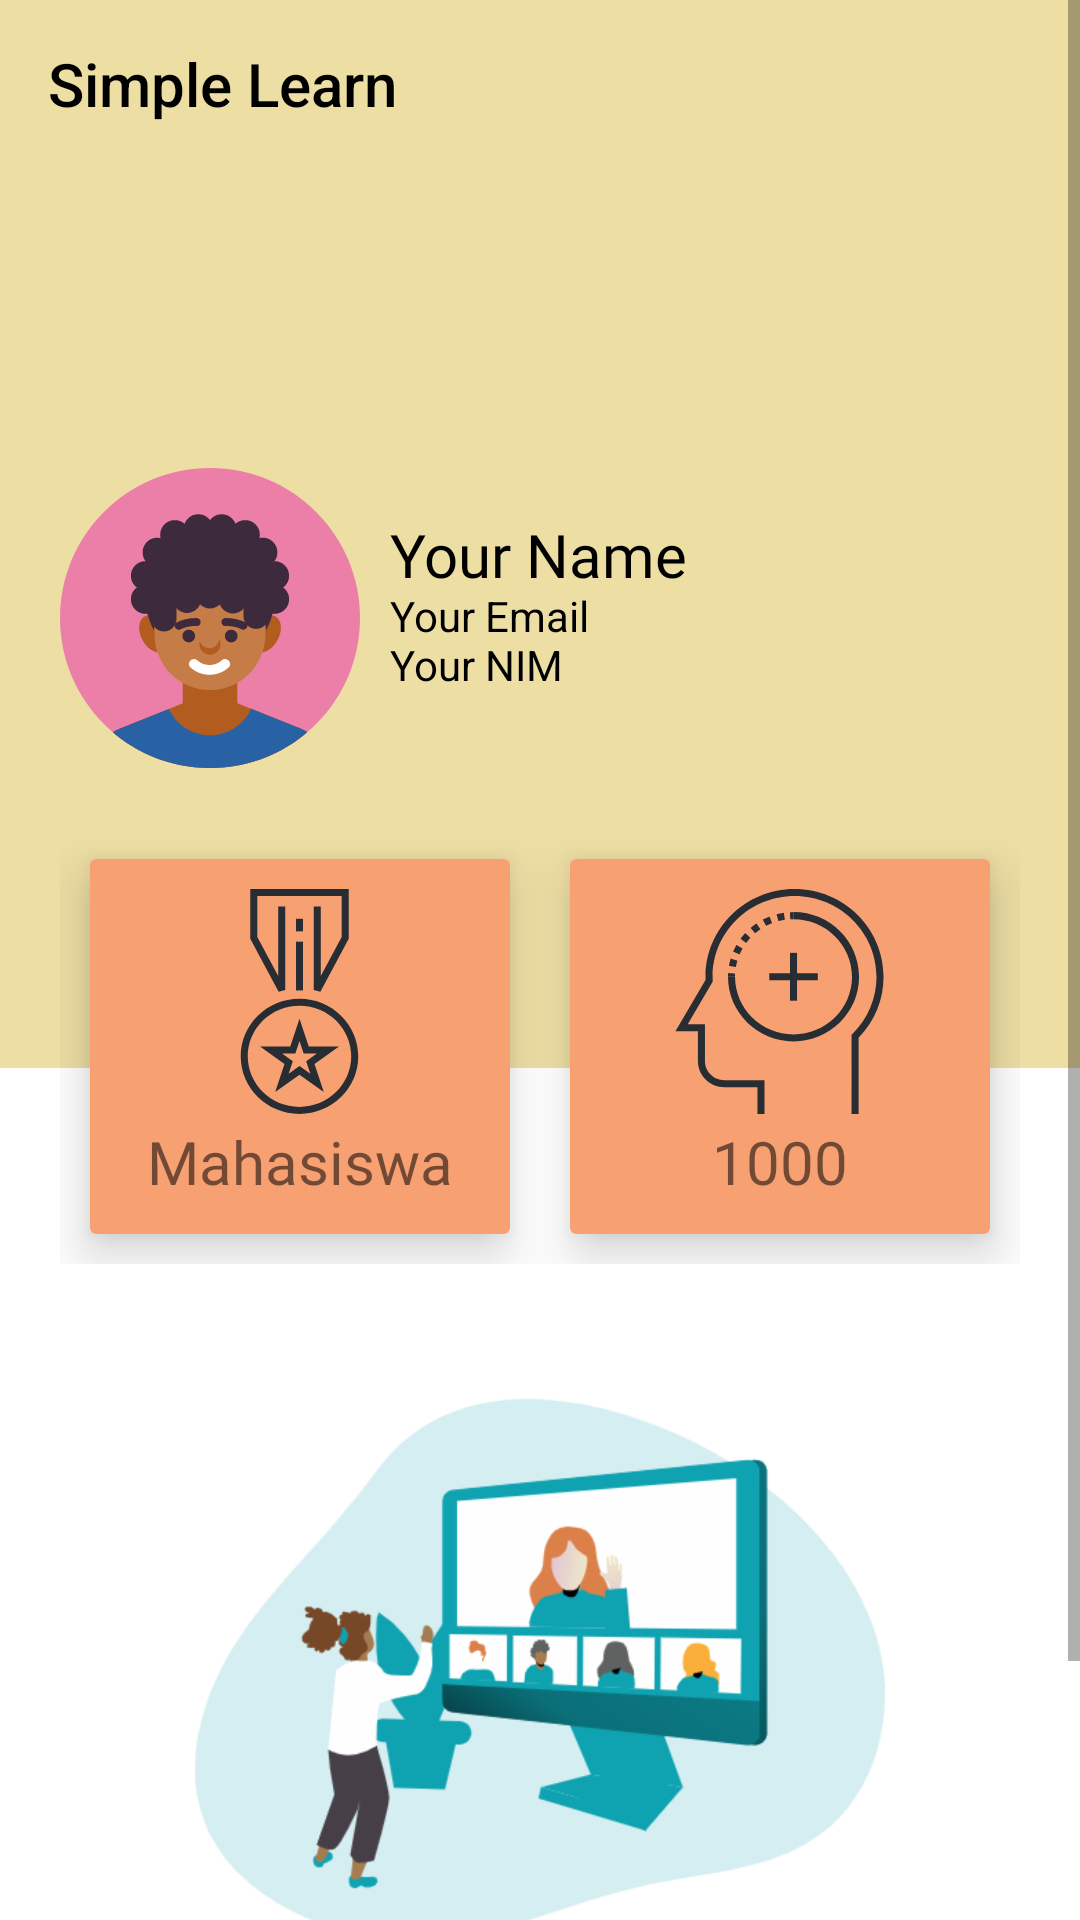

Named icons in this screenshot (1080w x 1920h) and their centers, [x,y]:
exp: [779,1001]
